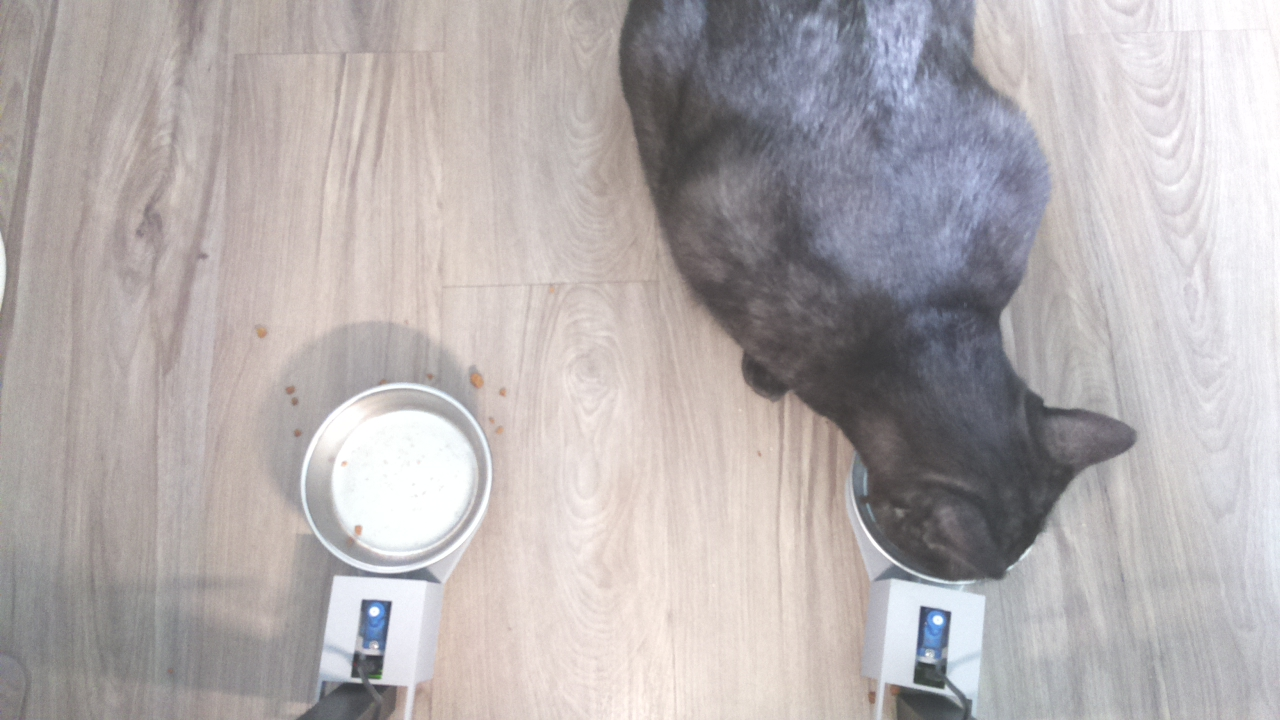open_bowl: (299, 377, 492, 575)
saki_eating: (842, 341, 1150, 585)
